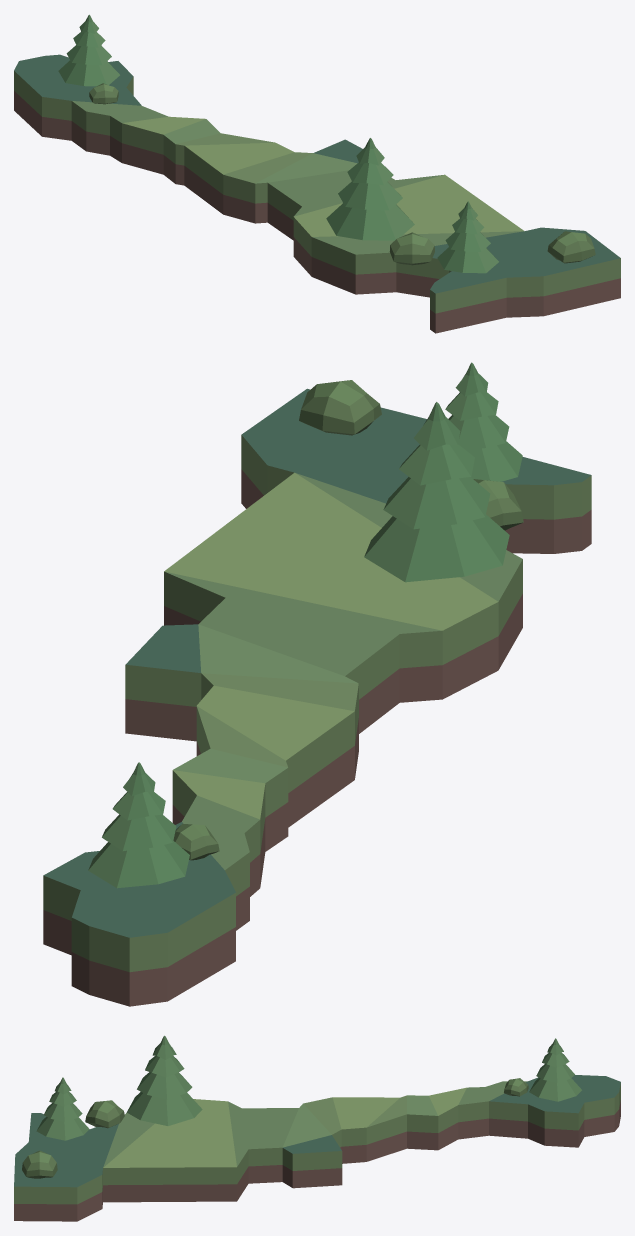
The model's file is verhneviluisk.gltf.
3 renders of one model, top to bottom at view 1: azimuth 30°, elevation 25°; view 2: azimuth 150°, elevation 25°; view 3: azimuth 270°, elevation 25°, orthographic. The views are drawn at different scales.
Parts seen in each view (by area): view 1: верхневилюйск; view 2: верхневилюйск; view 3: верхневилюйск.
Boxes of the visible parts, <box> form: верхневилюйск: <box>14,14,620,333</box>; верхневилюйск: <box>43,362,591,1006</box>; верхневилюйск: <box>14,1035,620,1221</box>.
Bounding box in the file's own units: 1.11 × 0.5325 × 2.5.
